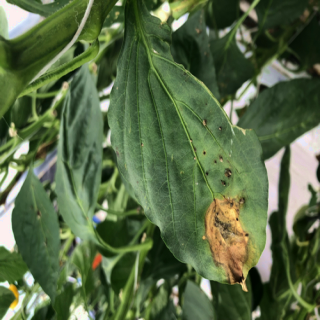graymold: (201, 188, 260, 296)
spotting_disease: (193, 142, 238, 183)
